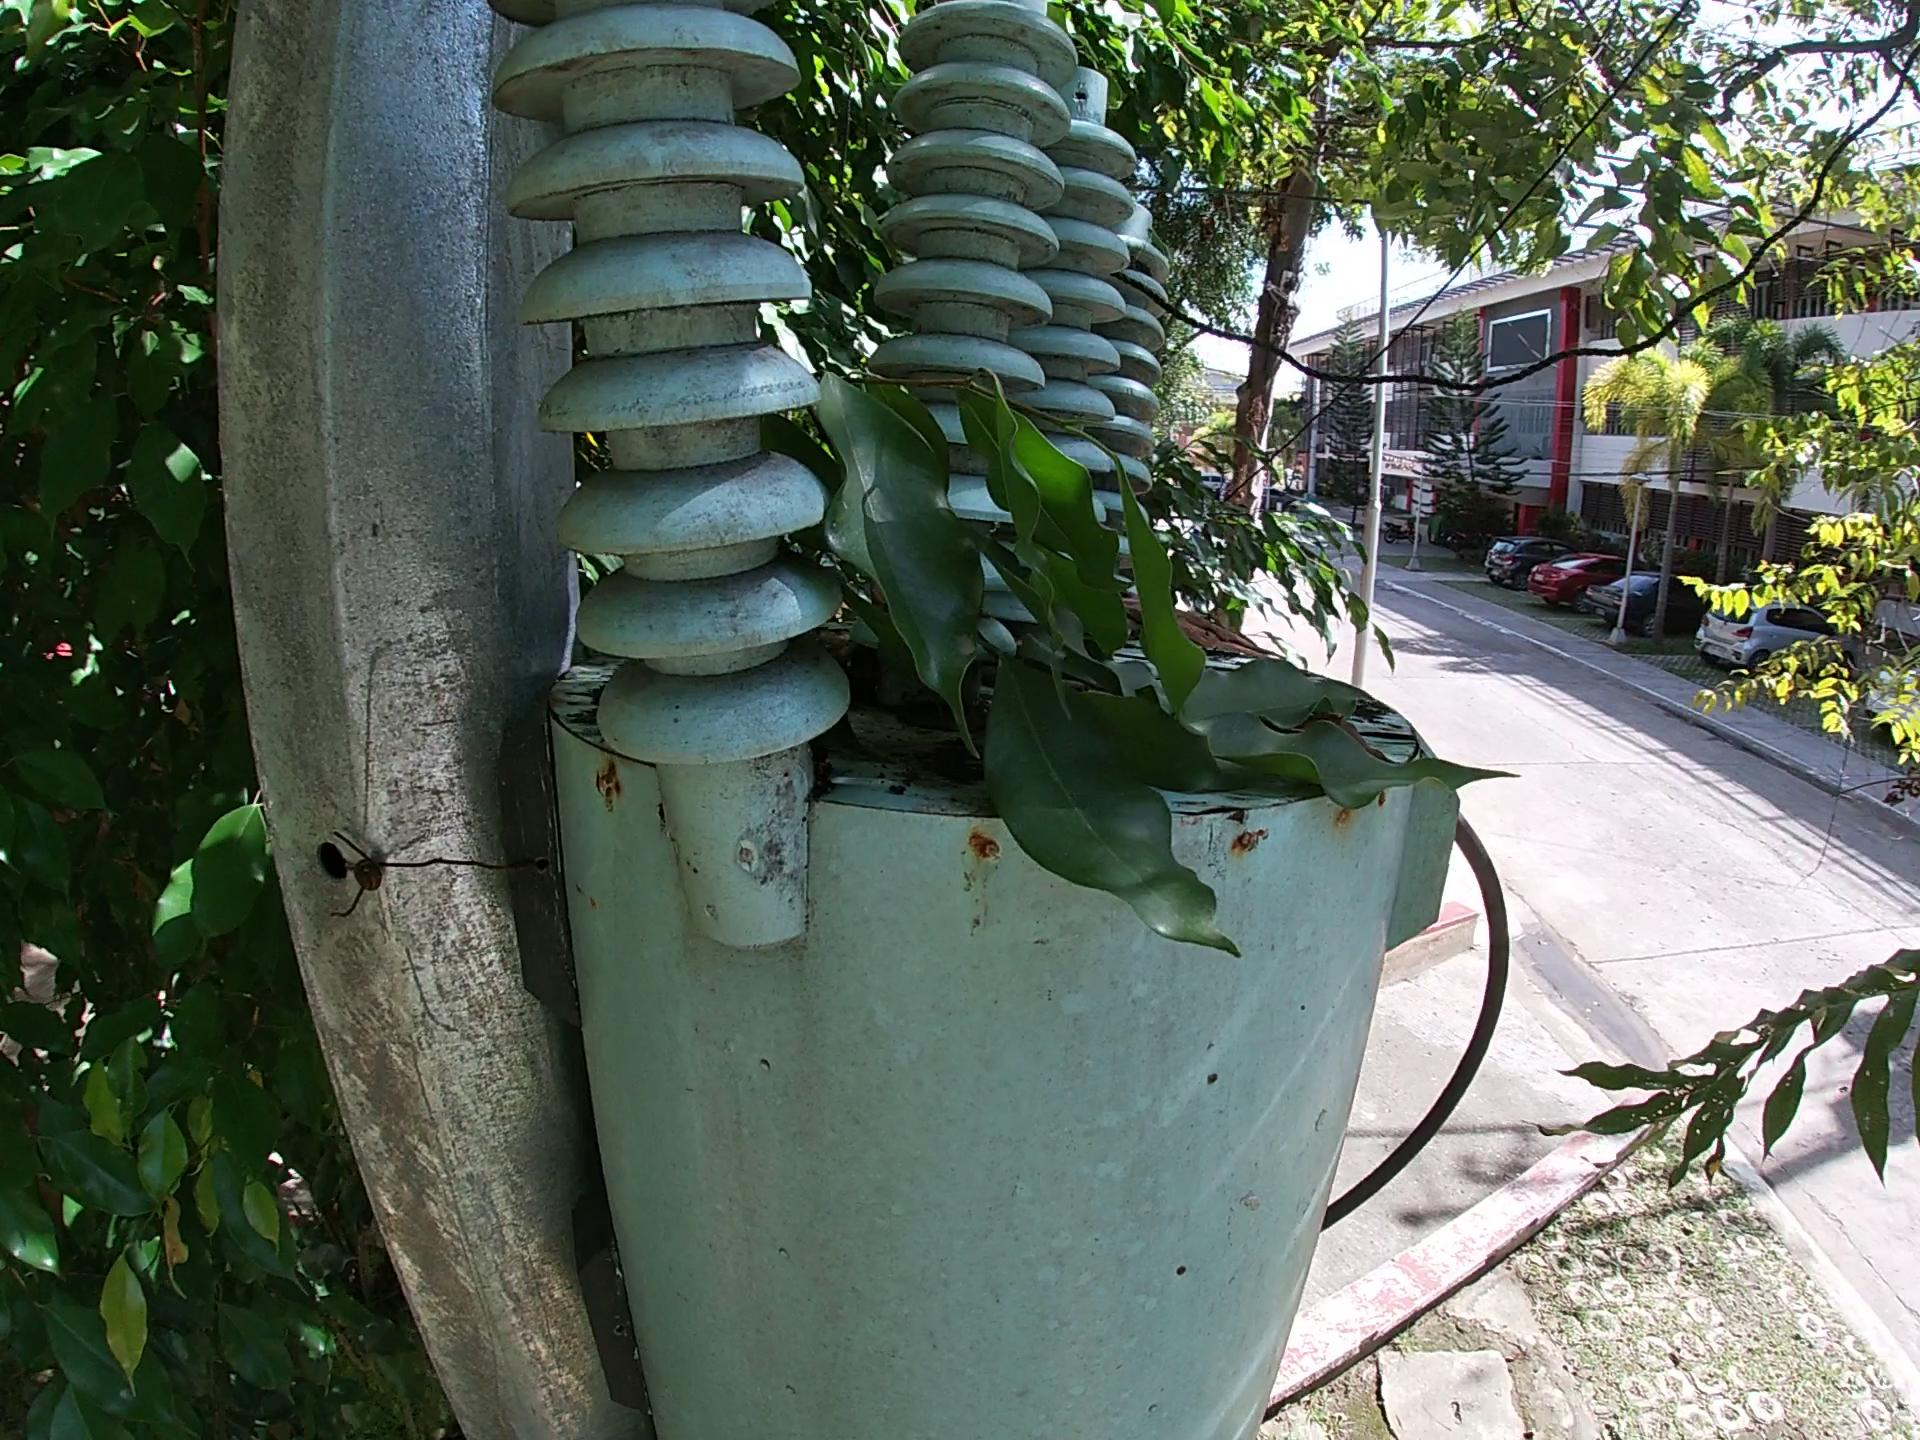branch with leaves: (788, 337, 1544, 1026)
tree branch: (1126, 597, 1267, 656)
